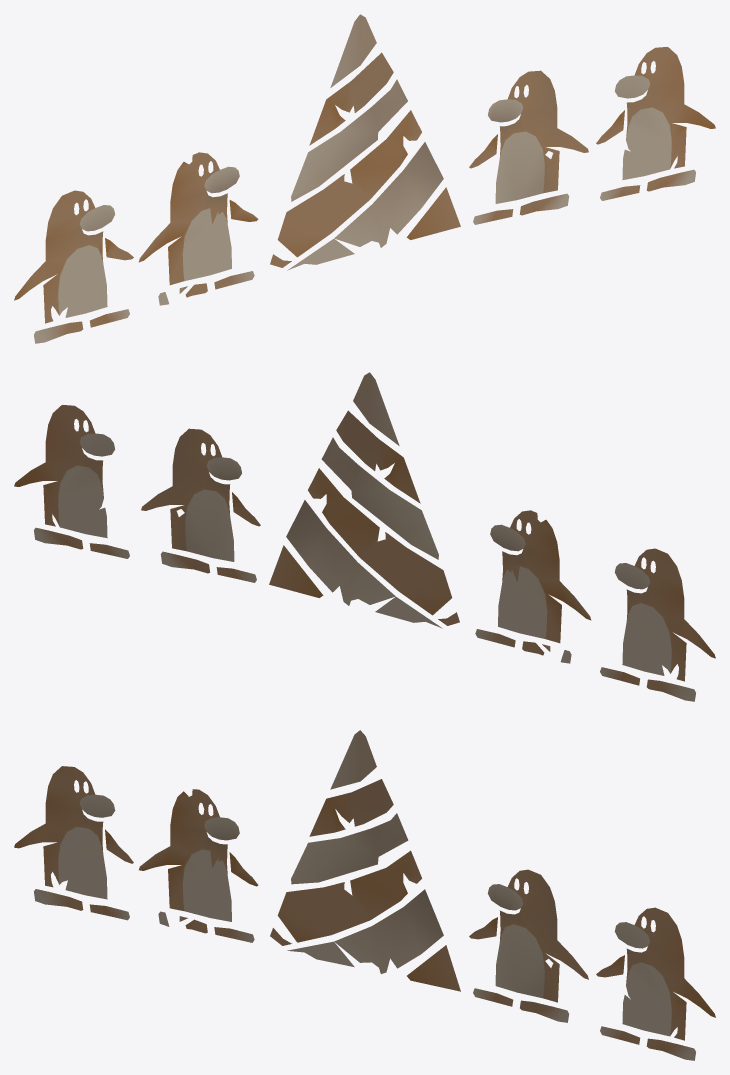
File: CavePaintingBetaHatPenguins.glb
3 views of the same model, one above another, from view 1: azimuth 30°, elevation 25°; view 2: azimuth 150°, elevation 25°; view 3: azimuth 330°, elevation 25° (orthographic).
Visible parts, largest first — view 1: CavePaintingBetaHatPenguins; view 2: CavePaintingBetaHatPenguins; view 3: CavePaintingBetaHatPenguins.
Part boxes in pixels (x1=…): CavePaintingBetaHatPenguins: x1=14, y1=14, x2=715, y2=343; CavePaintingBetaHatPenguins: x1=14, y1=372, x2=715, y2=701; CavePaintingBetaHatPenguins: x1=14, y1=730, x2=715, y2=1060.
Bounding box in the file's own units: 0.9924 × 0.3396 × 0.000624.
